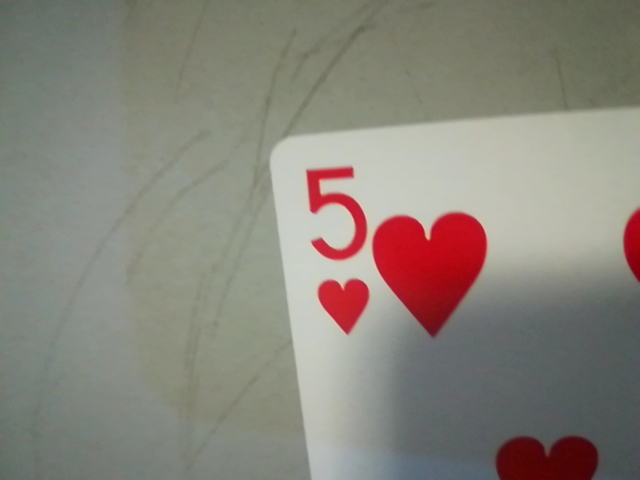hx 5: (293, 152, 377, 346)
